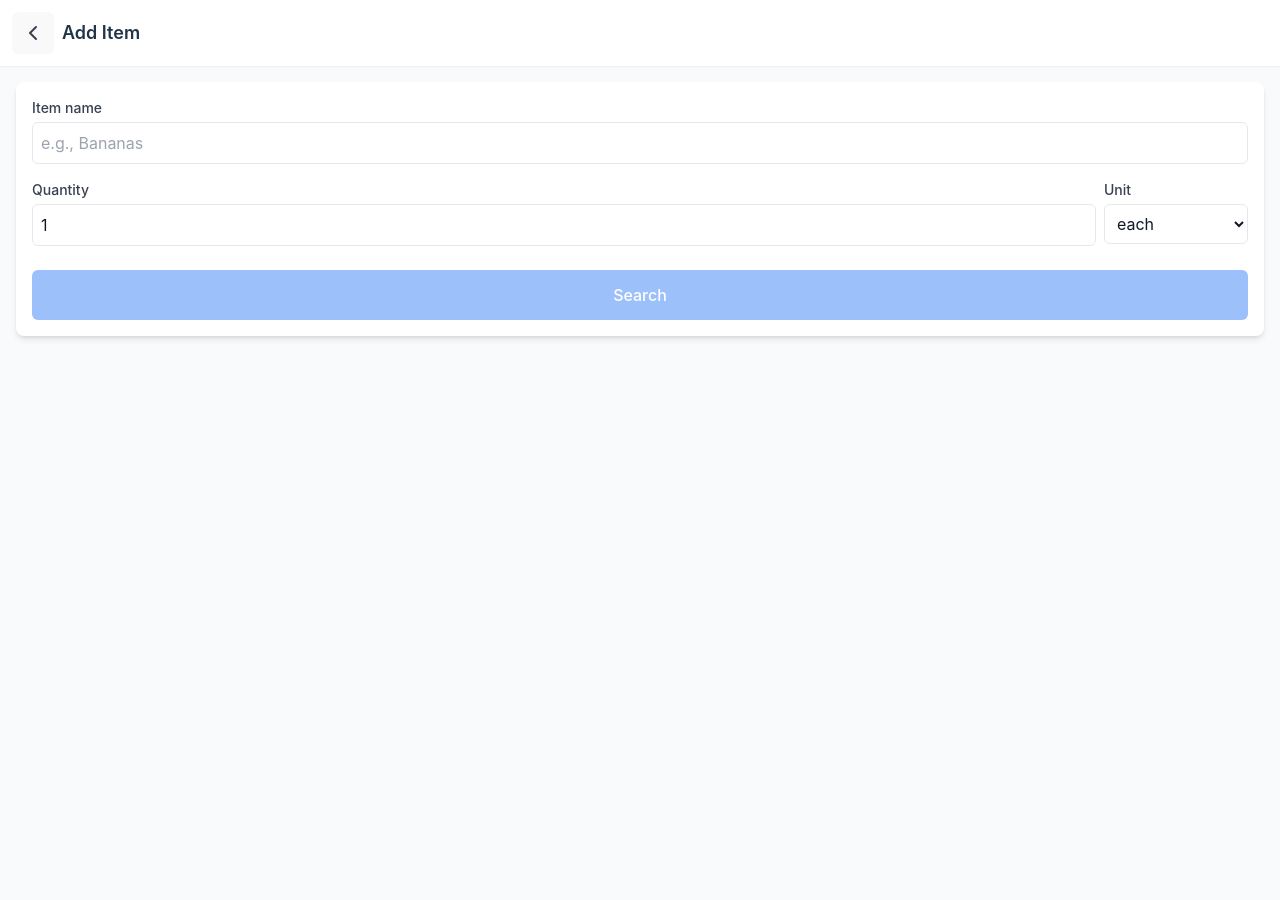
it: AddItemScreen search › online: shows every server match plus the locked-products card, merged with the device's own prices
Type "bananas" into the field at x=640, y=143, box [32, 122, 1248, 164]
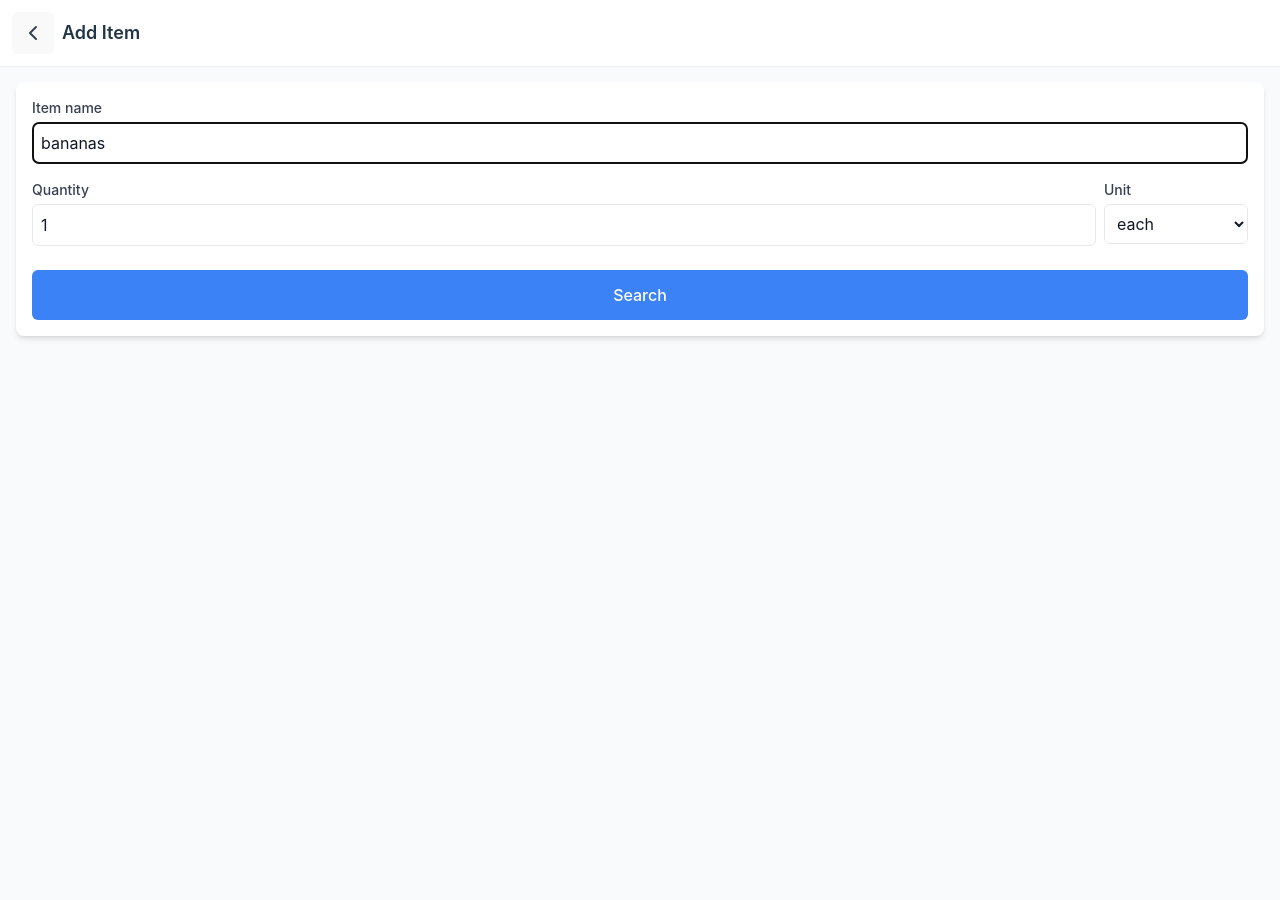
Click the button "Search" at x=640, y=295, box [32, 270, 1248, 320]
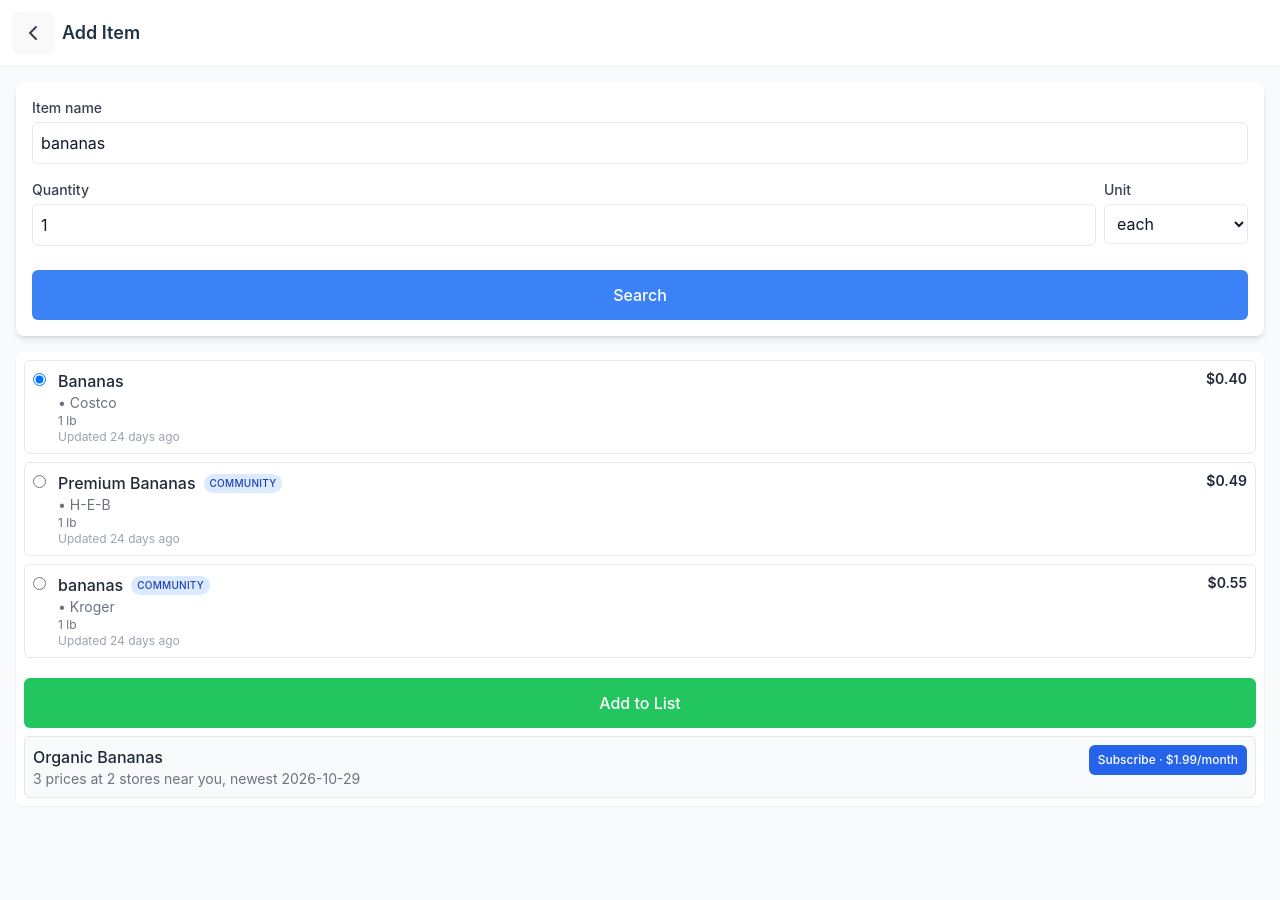
Expected: the text "Premium Bananas" is shown, [58, 473, 196, 493]
Expected: the number of radio buttons is 3, [33, 373, 46, 386]; [33, 475, 46, 488]; [33, 577, 46, 590]
Expected: the text "Organic Bananas" is shown, [33, 747, 163, 767]
